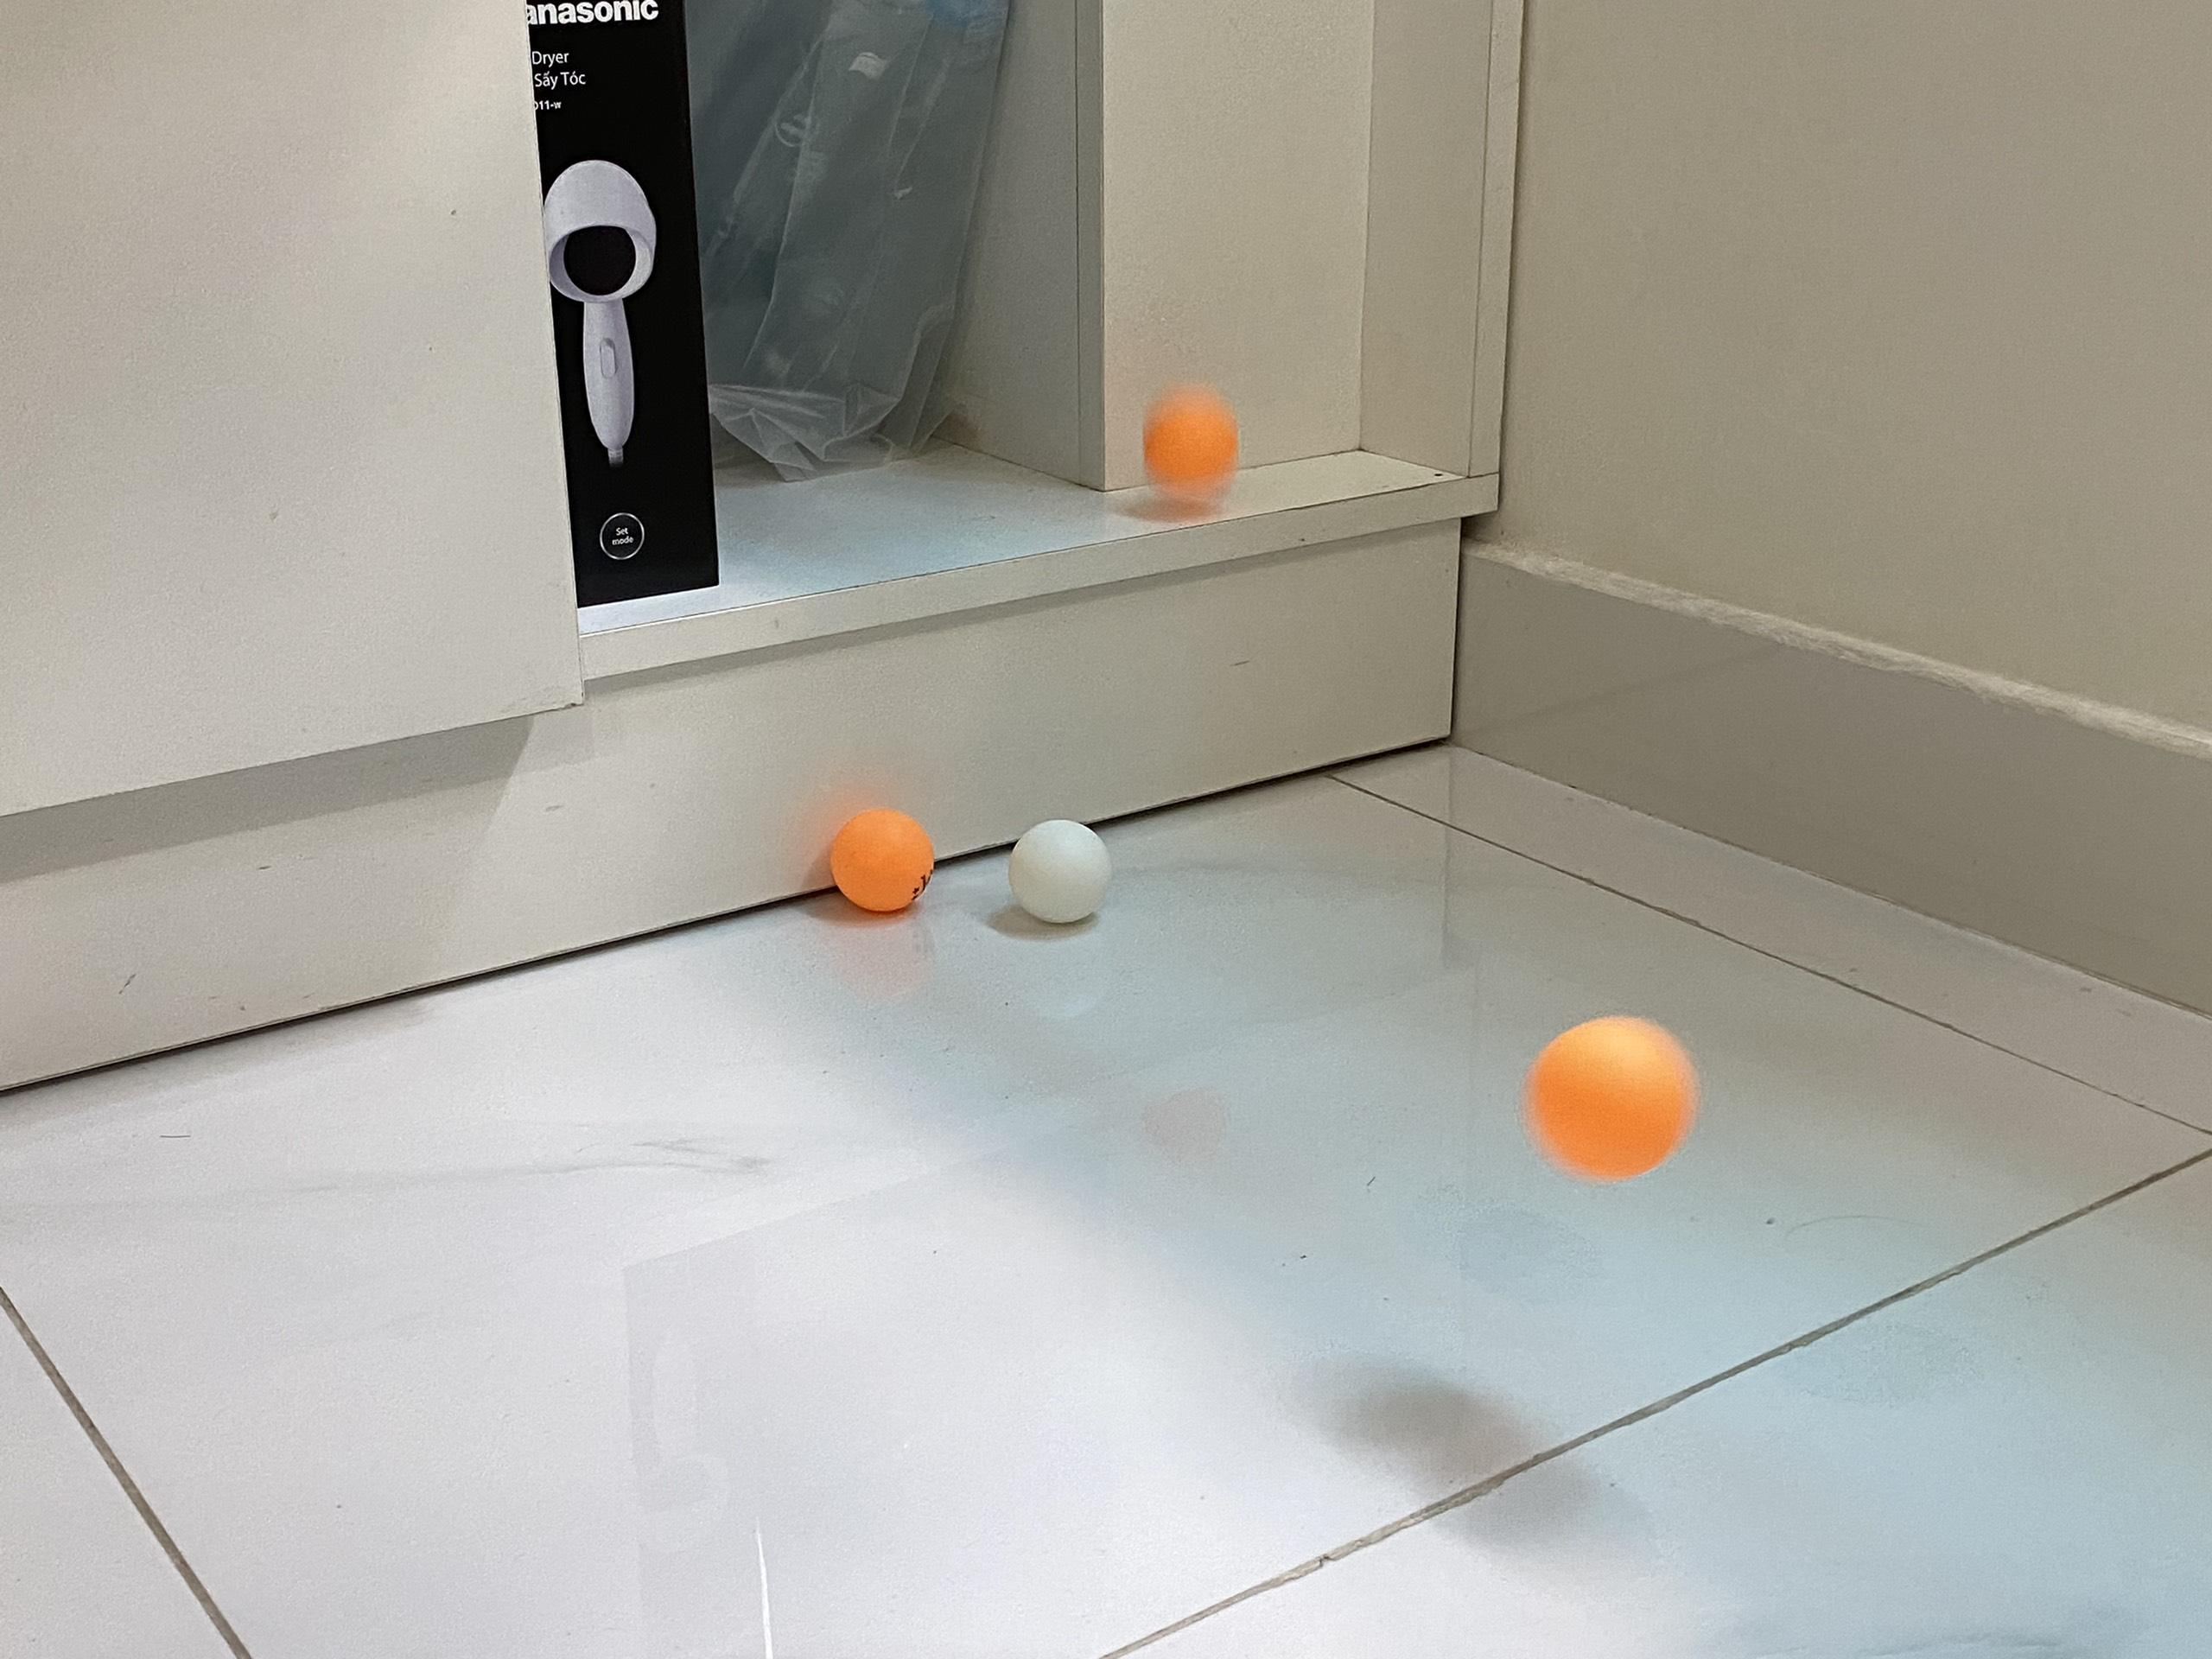oball: (1526, 1016, 1696, 1182), (1141, 387, 1238, 505), (831, 805, 937, 911)
